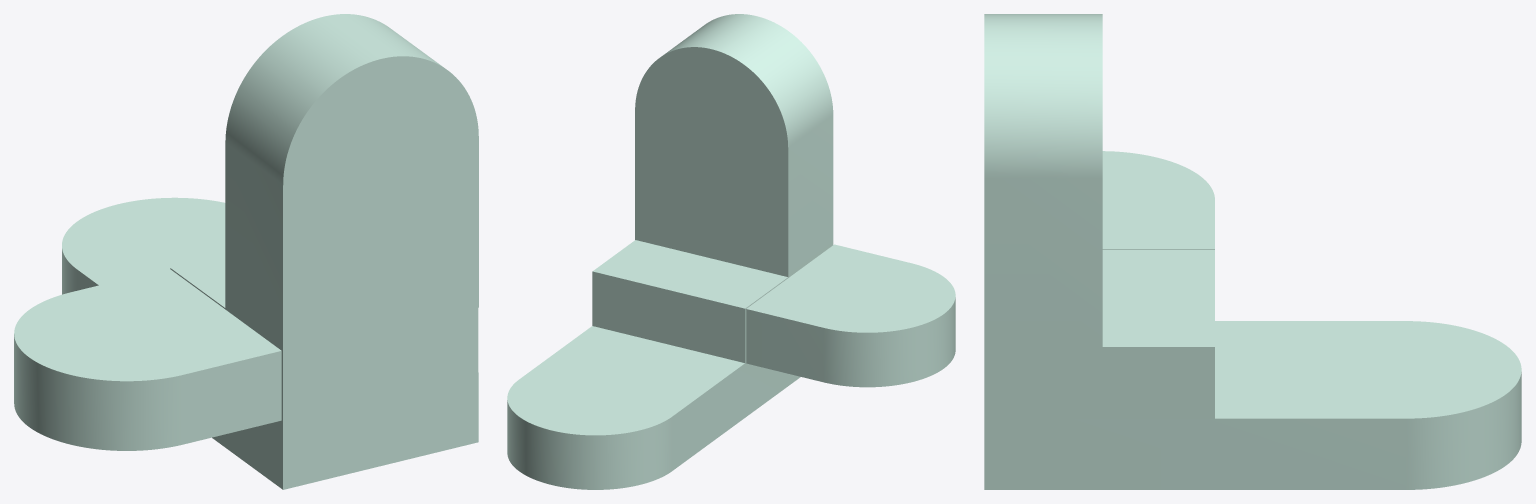
3 views of the same model, side by side, from view 1: azimuth 30°, elevation 25°; view 2: azimuth 150°, elevation 25°; view 3: azimuth 270°, elevation 25° (orthographic). The views are drawn at different scales.
Parts seen in each view (by area): view 1: Renderer Node; view 2: Renderer Node; view 3: Renderer Node.
Boxes of the visible parts, box(x1,y1,x2,y2) form: Renderer Node: box(14, 14, 478, 489); Renderer Node: box(507, 14, 955, 489); Renderer Node: box(984, 14, 1521, 489).
Size of the model in its own units: 0.6453 by 0.6383 by 0.7462.
